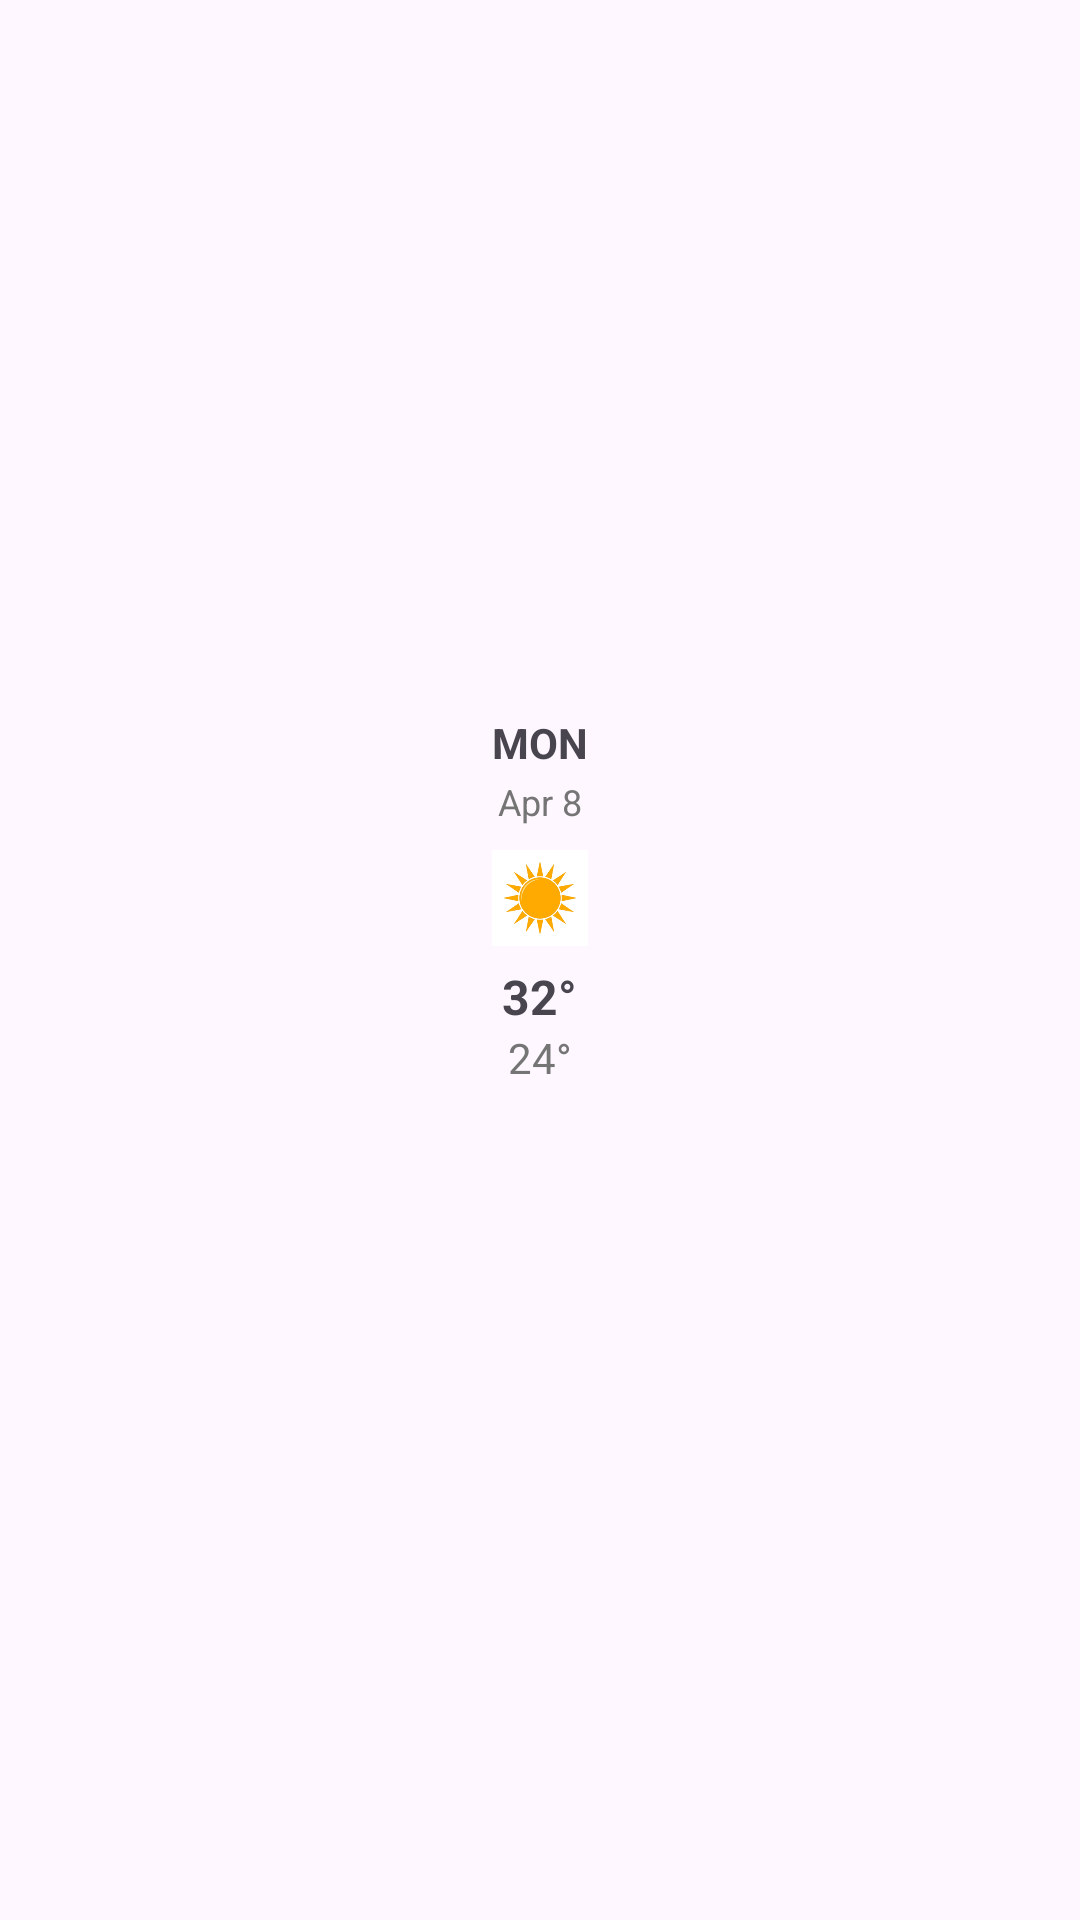

Point at icon controls on the screen. Image size 1080px x 1920px, points as [x,y].
sunny: [540,898]
